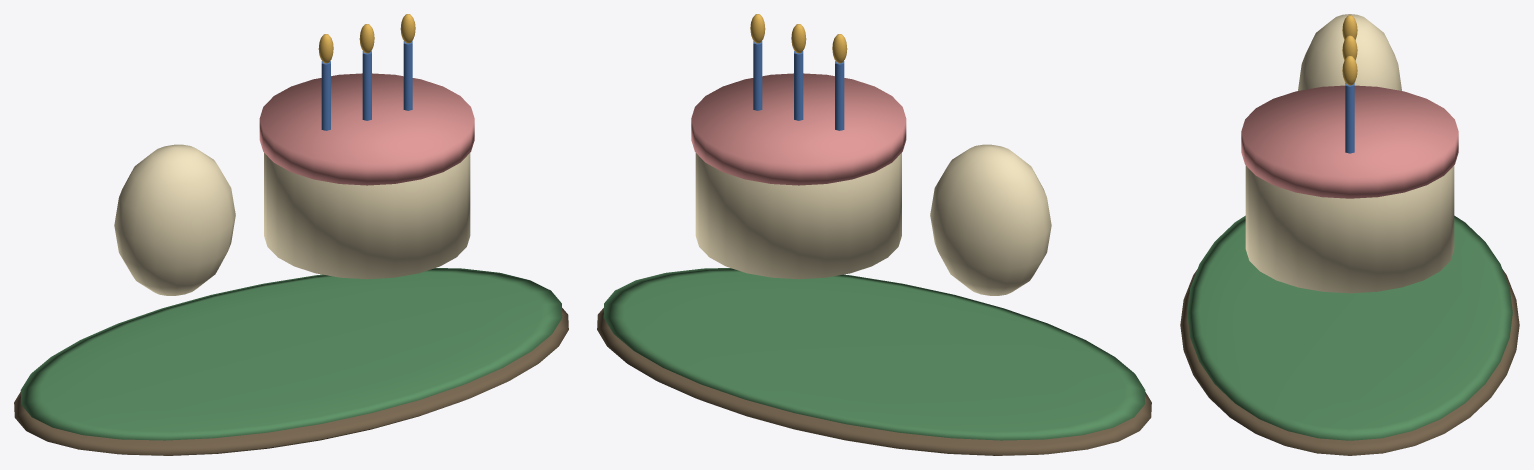
The model's file is egg-cake.glb.
3 renders of one model, left to right at view 1: azimuth 30°, elevation 25°; view 2: azimuth 150°, elevation 25°; view 3: azimuth 270°, elevation 25°, orthographic.
Visible parts, largest first — view 1: egg-cake_surface_01, egg-cake_surface_02, egg-cake_surface_03, egg-cake_surface_00, egg-cake_surface_04, egg-cake_surface_05; view 2: egg-cake_surface_01, egg-cake_surface_02, egg-cake_surface_03, egg-cake_surface_00, egg-cake_surface_04, egg-cake_surface_05; view 3: egg-cake_surface_01, egg-cake_surface_02, egg-cake_surface_03, egg-cake_surface_00, egg-cake_surface_05, egg-cake_surface_04.
Boxes of the visible parts, x1=… form: egg-cake_surface_01: x1=20, y1=268, x2=562, y2=440; egg-cake_surface_02: x1=114, y1=144, x2=470, y2=295; egg-cake_surface_03: x1=259, y1=73, x2=474, y2=185; egg-cake_surface_00: x1=14, y1=308, x2=568, y2=455; egg-cake_surface_04: x1=321, y1=41, x2=412, y2=130; egg-cake_surface_05: x1=318, y1=14, x2=415, y2=63; egg-cake_surface_01: x1=603, y1=268, x2=1145, y2=440; egg-cake_surface_02: x1=695, y1=144, x2=1051, y2=295; egg-cake_surface_03: x1=691, y1=73, x2=906, y2=185; egg-cake_surface_00: x1=597, y1=308, x2=1151, y2=455; egg-cake_surface_04: x1=753, y1=41, x2=844, y2=130; egg-cake_surface_05: x1=750, y1=14, x2=847, y2=63; egg-cake_surface_01: x1=1187, y1=215, x2=1512, y2=440; egg-cake_surface_02: x1=1245, y1=14, x2=1454, y2=293; egg-cake_surface_03: x1=1241, y1=85, x2=1458, y2=198; egg-cake_surface_00: x1=1180, y1=269, x2=1519, y2=455; egg-cake_surface_05: x1=1342, y1=15, x2=1357, y2=85; egg-cake_surface_04: x1=1345, y1=83, x2=1354, y2=153.
Bounding box in the file's own units: 4.56 × 2.79 × 2.5.
